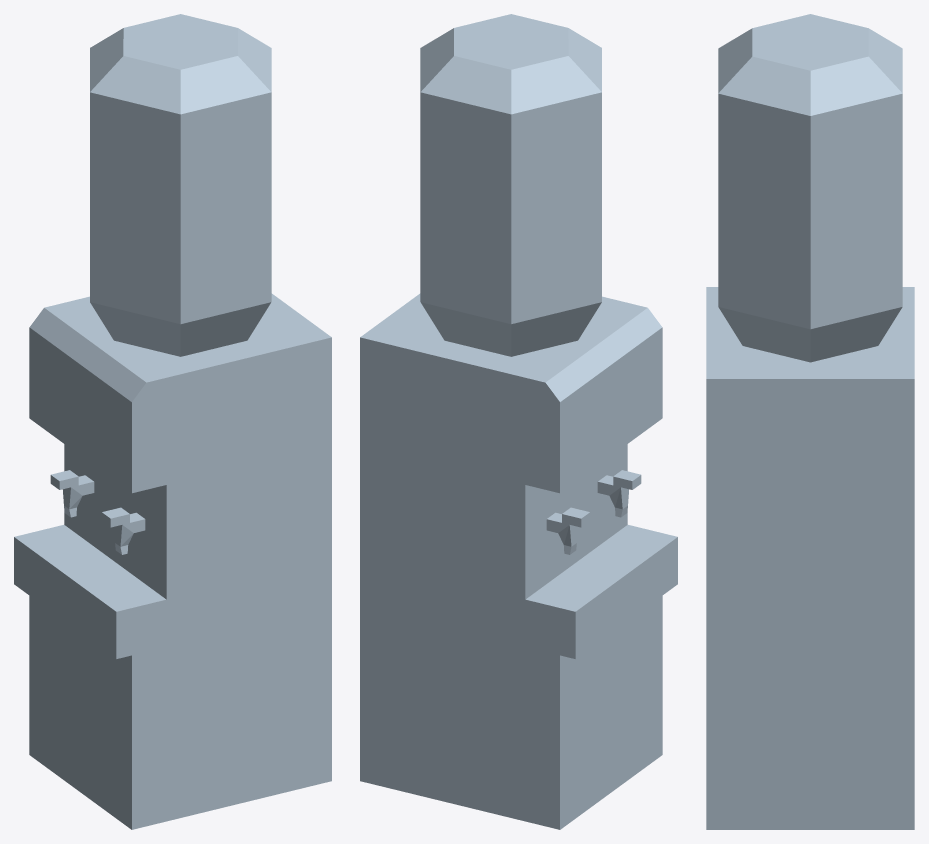
Rendered from ss-water-cooler.lod1.glb.
3 renders of one model, left to right at view 1: azimuth 30°, elevation 25°; view 2: azimuth 150°, elevation 25°; view 3: azimuth 270°, elevation 25°, orthographic.
Visible parts, largest first — view 1: Mesh22_Color_M00_0; view 2: Mesh22_Color_M00_0; view 3: Mesh22_Color_M00_0.
Boxes of the visible parts, left/top/right/bottom form: Mesh22_Color_M00_0: left=14, top=14, right=331, bottom=829; Mesh22_Color_M00_0: left=360, top=14, right=677, bottom=829; Mesh22_Color_M00_0: left=706, top=14, right=914, bottom=829.
Bounding box in the file's own units: 0.5278 × 1.7 × 0.4342.
